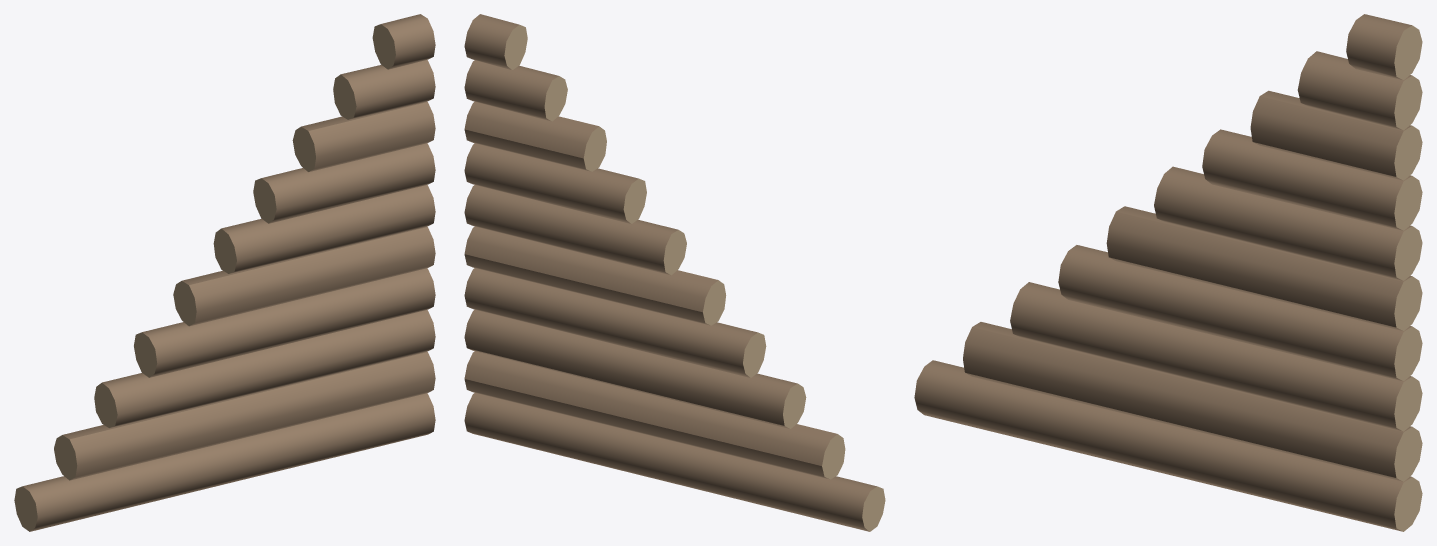
Rendered from log_gable_steep.glb.
The picture shows the model from 3 angles, left to right: view 1: azimuth 30°, elevation 25°; view 2: azimuth 150°, elevation 25°; view 3: azimuth 330°, elevation 25°; orthographic projection. The views are drawn at different scales.
Parts seen in each view (by area): view 1: Wall; view 2: Wall; view 3: Wall.
Boxes of the visible parts, x1,y1,x2,y2 form: Wall: (14,14,435,531); Wall: (464,14,885,531); Wall: (914,14,1422,531).
Size of the model in its own units: 3 by 3 by 0.3145.
